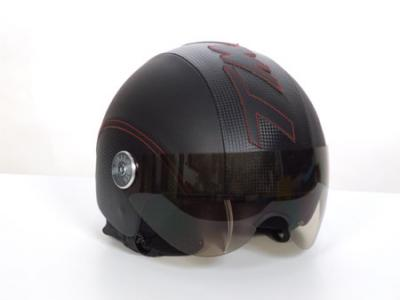helmet: (100, 48, 339, 248)
